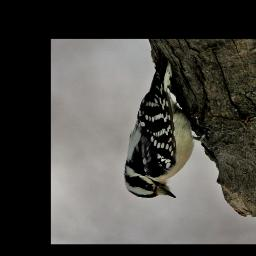Woodpecker: (122, 44, 218, 202)
